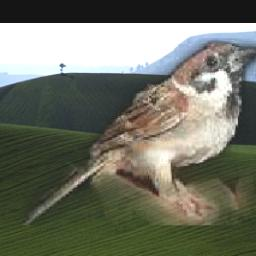Sparrow: (23, 39, 256, 226)
